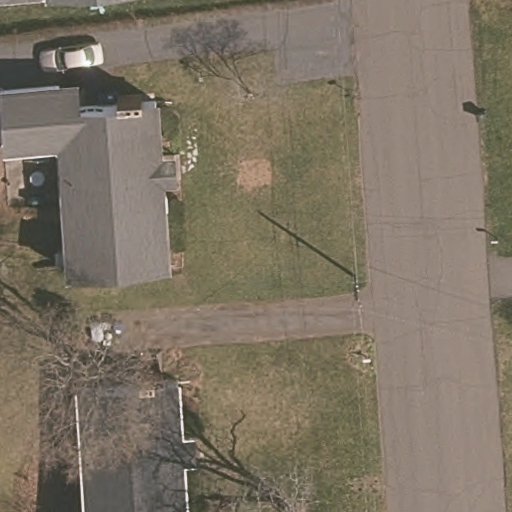DT: (340, 274, 369, 309)
